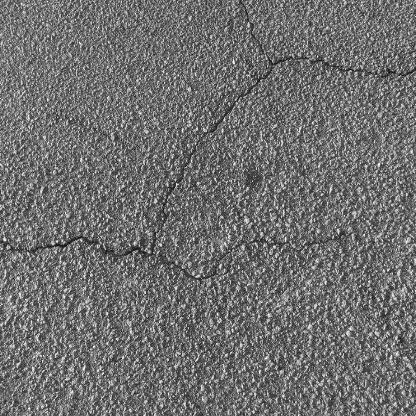Cracks: (0, 229, 350, 286), (158, 70, 275, 227), (276, 49, 416, 80), (232, 0, 276, 70)
